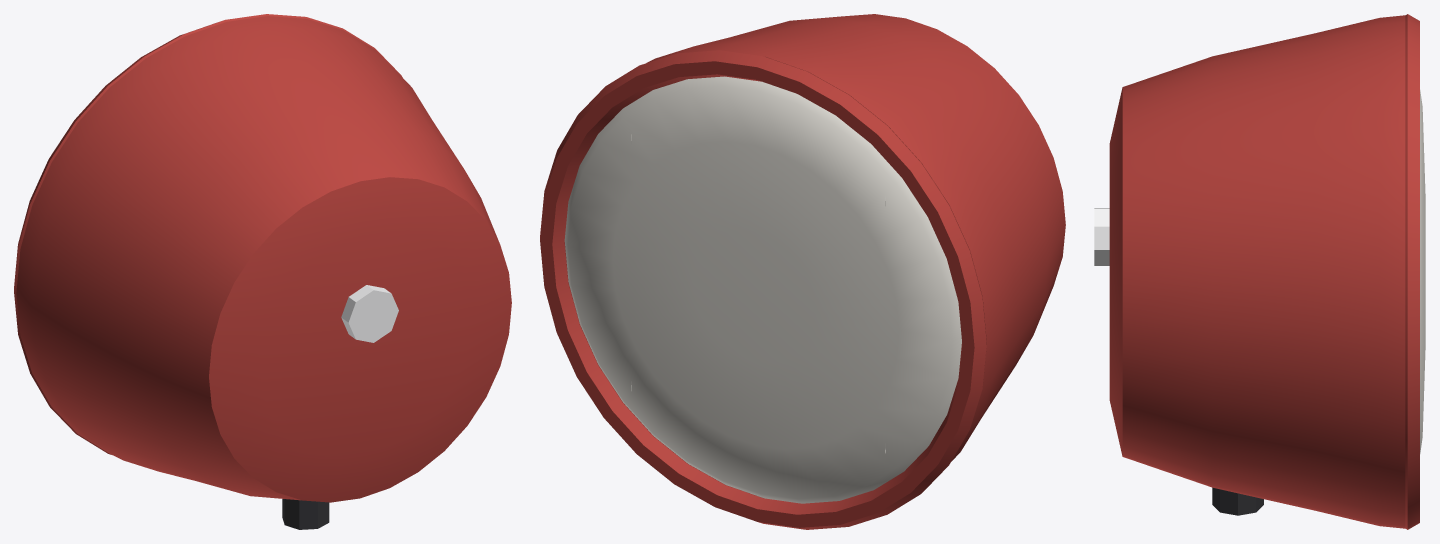
Rendered from bucket.glb.
The picture shows the model from 3 angles, left to right: view 1: azimuth 30°, elevation 25°; view 2: azimuth 150°, elevation 25°; view 3: azimuth 270°, elevation 25°; orthographic projection. The views are drawn at different scales.
Parts seen in each view (by area): view 1: lod0; view 2: lod0; view 3: lod0.
Part boxes in pixels (bbox=[...]): lod0: bbox=[14, 14, 511, 529]; lod0: bbox=[540, 14, 1065, 529]; lod0: bbox=[1094, 14, 1425, 529].
Size of what is drawn, in the model's own units: 2.01 by 2.01 by 1.29.
